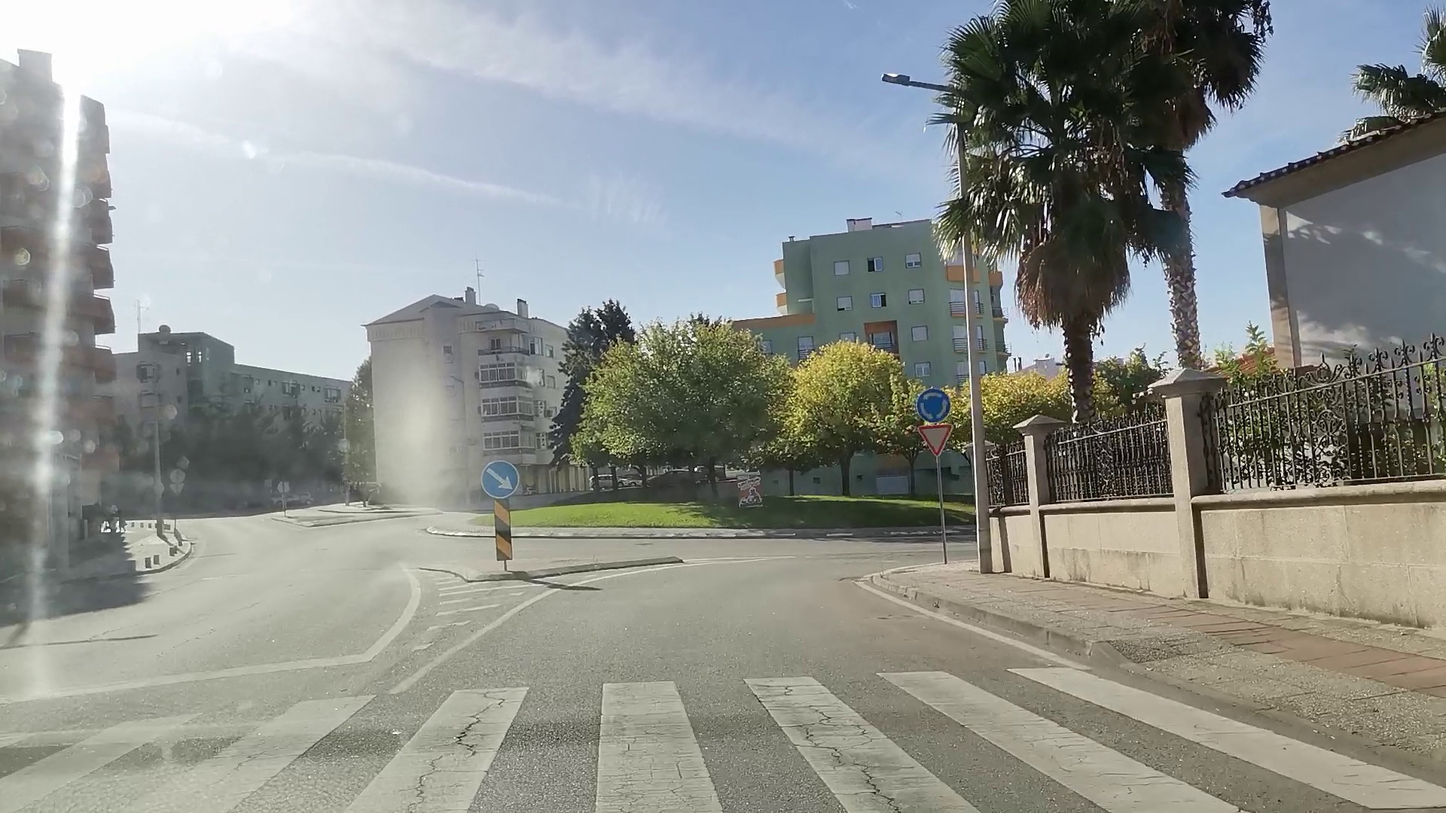Stairs: (3, 660, 1446, 813)
